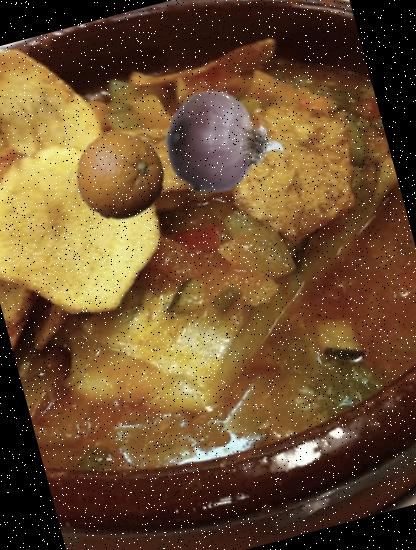Onion: (150, 70, 301, 221)
Orange: (66, 123, 174, 230)
